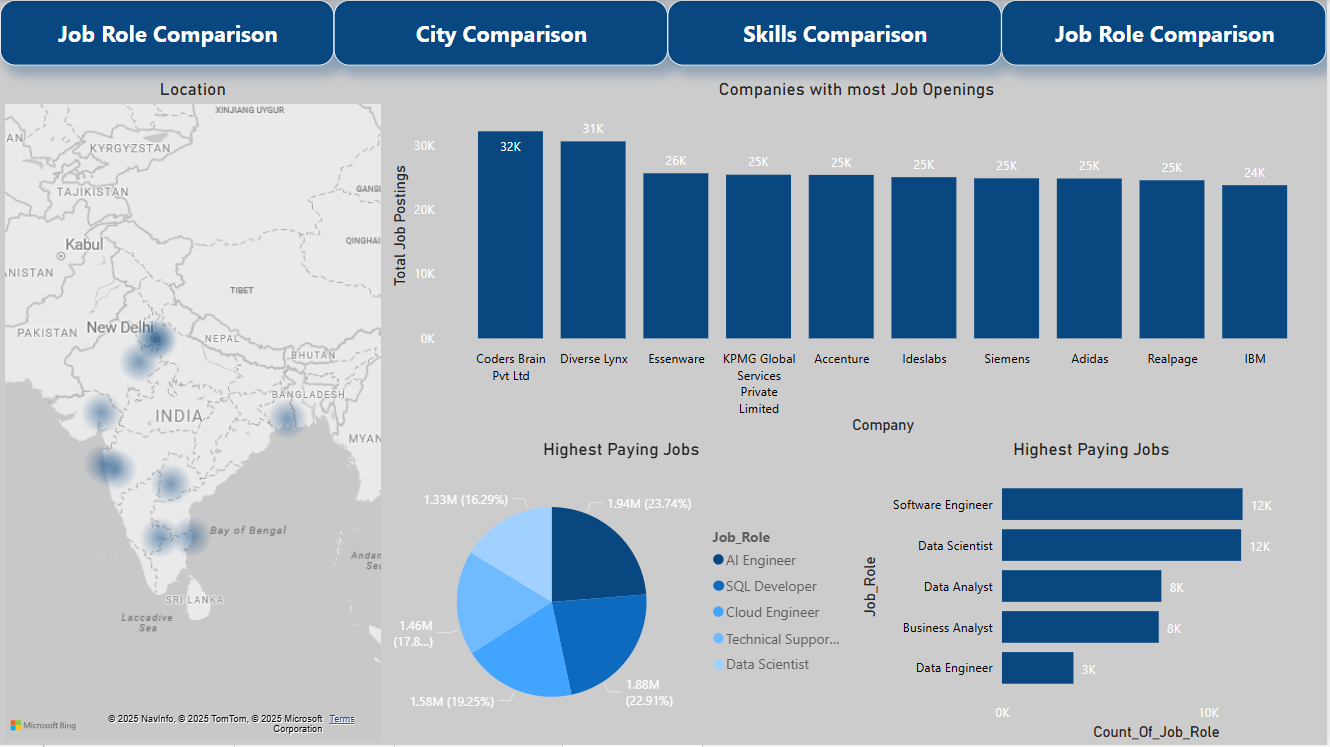

What the dashboard file says about the page in this screenshot:
{"tool":"powerbi","page":{"name":"Final Insights","canvas":[1280,720],"ordinal":3},"visuals":[{"type":"actionButton","box":[0,0,322.2,63.1],"z":0},{"type":"actionButton","box":[322.2,0,322.2,63.1],"z":1000},{"type":"actionButton","box":[644.4,0,322.2,63.1],"z":2000},{"type":"actionButton","box":[966.6,0,314,63.1],"z":3000},{"type":"columnChart","title":"Companies with most Job Openings","fields":{"Category":["Main_Data_Analytics_Science_Data.Company"],"Y":["Main.Total_Companies"]},"box":[372.5,76.2,907.5,347.5],"z":4000},{"type":"map","fields":{"Category":["Main.Location"]},"box":[0,76.2,372.5,643.8],"z":5000},{"type":"barChart","title":"Highest Paying Jobs","fields":{"Category":["Main.Job_Role"],"Y":["Main.Count_Of_Job_Role"]},"box":[826.2,423.8,453.8,296.2],"z":6000},{"type":"pieChart","title":"Highest Paying Jobs","fields":{"Y":["Avg(Main.Salary)"],"Category":["Main.Job_Role"]},"box":[372.5,423.8,453.8,296.2],"z":7000}]}

Visuals, with their boxes in screenshot pixels (x1, y1, x2, y2), scaled from the page's 1280x720 canvas onto the 1330x747 screenshot:
actionButton: select_region(0, 0, 335, 65)
actionButton: select_region(335, 0, 670, 65)
actionButton: select_region(670, 0, 1004, 65)
actionButton: select_region(1004, 0, 1329, 65)
"Companies with most Job Openings" columnChart: select_region(387, 79, 1329, 440)
map - Main.Location: select_region(0, 79, 387, 746)
"Highest Paying Jobs" barChart: select_region(858, 440, 1329, 746)
"Highest Paying Jobs" pieChart: select_region(387, 440, 859, 746)
